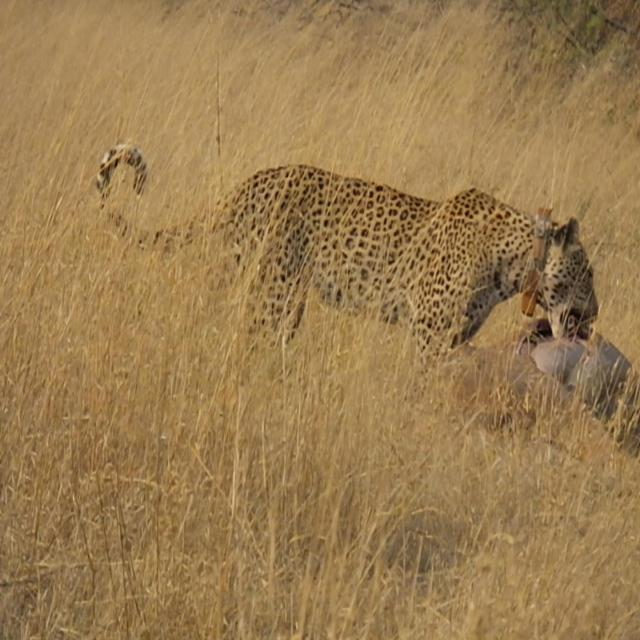Leopard: (104, 148, 597, 394)
